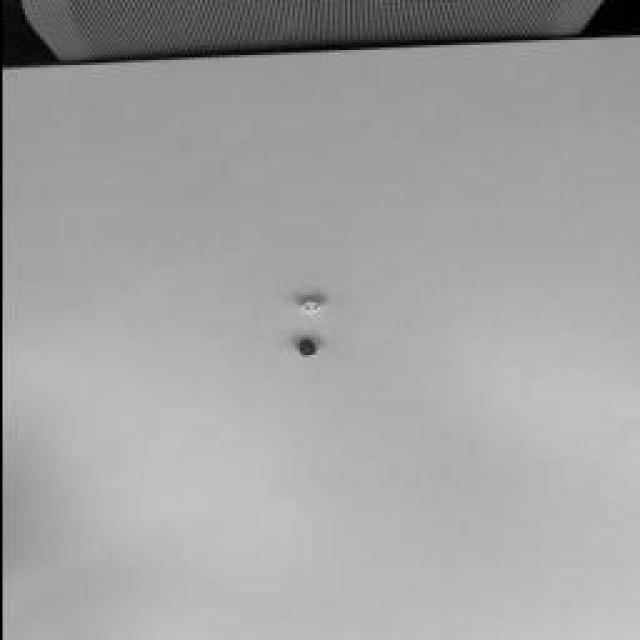dice_1: (298, 345, 314, 355)
dice_2: (302, 302, 318, 312)
